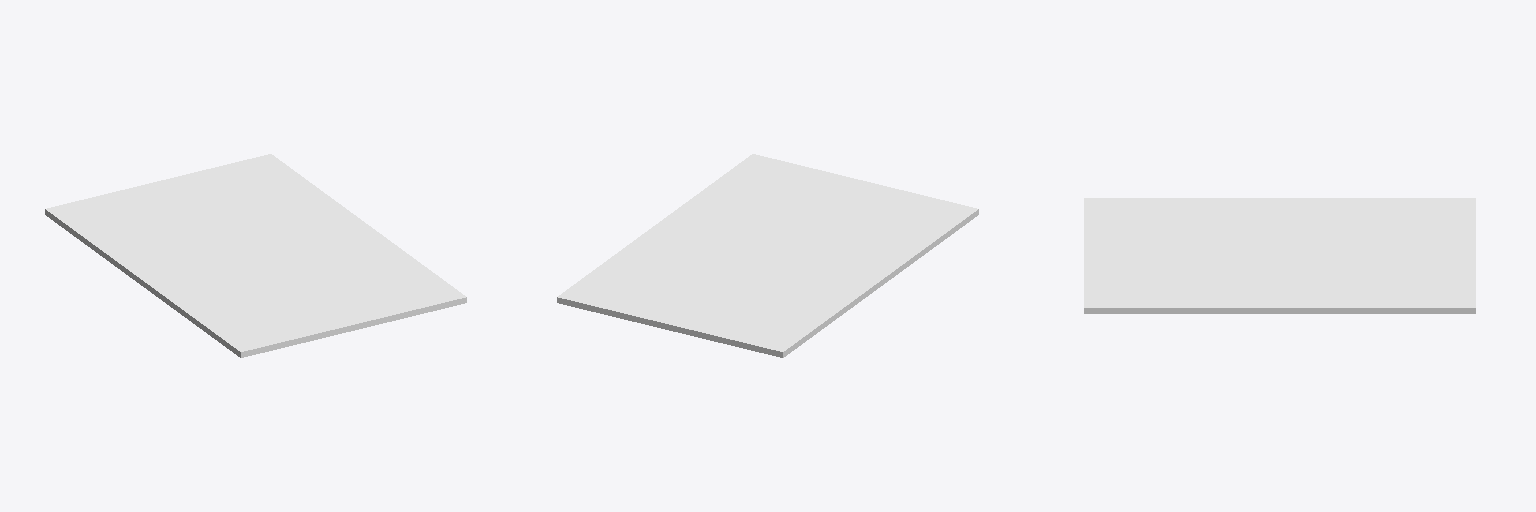
The model's file is road1CrossWalk-1-lod1.obj.
3 renders of one model, left to right at view 1: azimuth 30°, elevation 25°; view 2: azimuth 150°, elevation 25°; view 3: azimuth 270°, elevation 25°, orthographic.
Visible parts, largest first — view 1: lod1; view 2: lod1; view 3: lod1.
Part boxes in pixels (left/top/right/bottom): lod1: left=45, top=154, right=466, bottom=357; lod1: left=557, top=154, right=978, bottom=357; lod1: left=1084, top=198, right=1475, bottom=313.
Bounding box in the file's own units: 4 × 0.1 × 6.